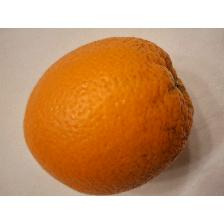Orange: (21, 34, 195, 196)
